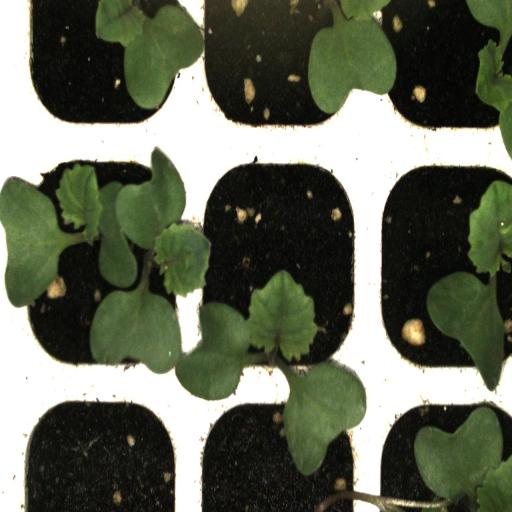seedling: (191, 143, 369, 385), (370, 142, 512, 386)
twoseedling: (10, 142, 190, 384)
